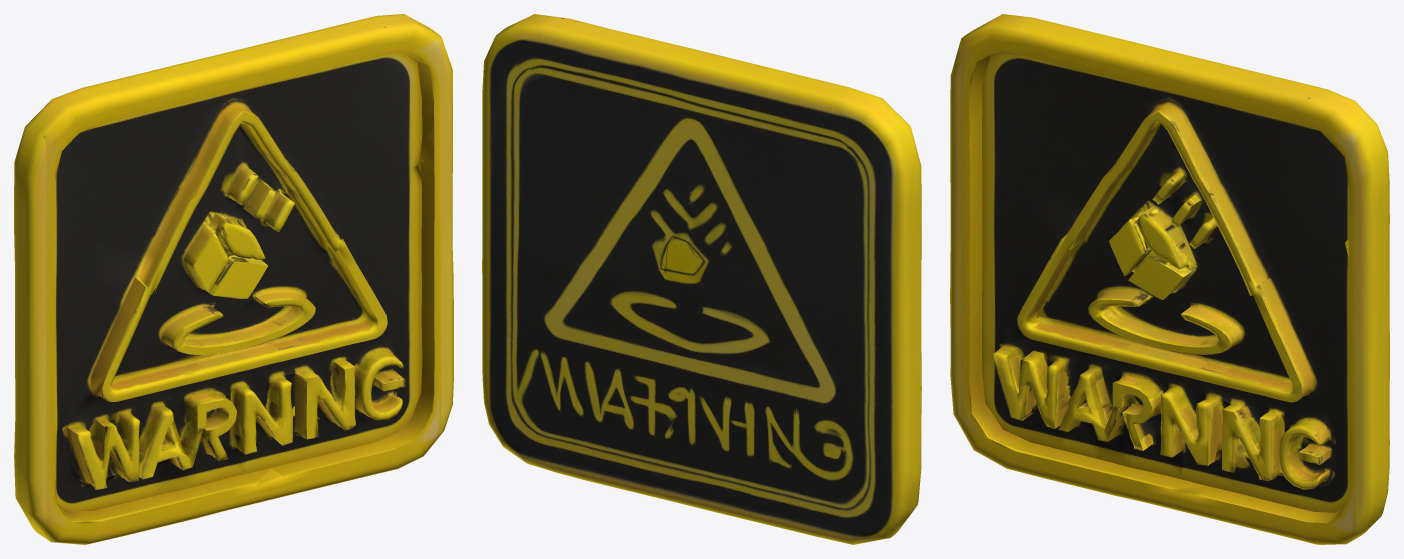
Rendered from Falling_Cube_Alert_0926201110_texture.fbx.
3 views of the same model, side by side, from view 1: azimuth 30°, elevation 25°; view 2: azimuth 150°, elevation 25°; view 3: azimuth 330°, elevation 25° (orthographic).
Parts seen in each view (by area): view 1: Mesh0; view 2: Mesh0; view 3: Mesh0.
Boxes of the visible parts, <box> form: Mesh0: <box>14,14,453,544</box>; Mesh0: <box>482,14,921,544</box>; Mesh0: <box>950,14,1389,544</box>.
Bounding box in the file's own units: 191 × 191 × 17.05.
1 material, 1 textured.
